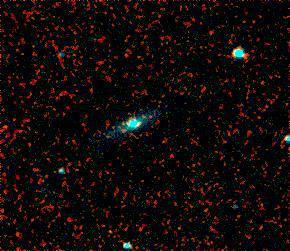star: (196, 18, 226, 48)
